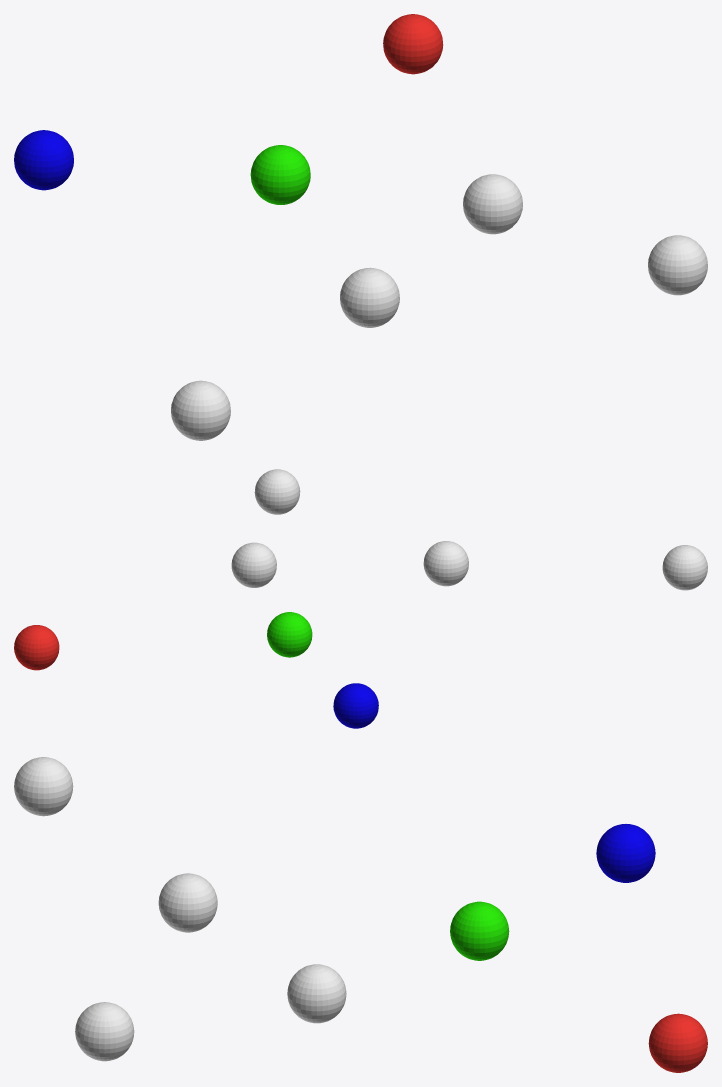
The model's file is streamboll.glb.
The picture shows the model from 3 angles, top to bottom: view 1: azimuth 30°, elevation 25°; view 2: azimuth 150°, elevation 25°; view 3: azimuth 270°, elevation 25°; orthographic projection. The views are drawn at different scales.
Parts seen in each view (by area): view 1: streamboll-1-4, streamboll-2-3, streamboll-1-3, streamboll-1-1, streamboll-1-2, streamboll-2-1, streamboll-2-2; view 2: streamboll-1-1, streamboll-2-1, streamboll-2-2, streamboll-1-2, streamboll-1-3, streamboll-2-3, streamboll-1-4; view 3: streamboll-2-2, streamboll-1-3, streamboll-1-4, streamboll-1-1, streamboll-2-1, streamboll-2-3, streamboll-1-2.
Part boxes in pixels (x1=…): streamboll-1-4: x1=648, y1=235, x2=707, y2=295; streamboll-2-3: x1=383, y1=14, x2=443, y2=74; streamboll-1-3: x1=463, y1=174, x2=522, y2=234; streamboll-1-1: x1=14, y1=130, x2=73, y2=190; streamboll-1-2: x1=250, y1=145, x2=310, y2=204; streamboll-2-1: x1=171, y1=380, x2=230, y2=440; streamboll-2-2: x1=340, y1=267, x2=399, y2=327; streamboll-1-1: x1=333, y1=683, x2=378, y2=728; streamboll-2-1: x1=662, y1=545, x2=707, y2=590; streamboll-2-2: x1=423, y1=541, x2=468, y2=586; streamboll-1-2: x1=267, y1=612, x2=312, y2=657; streamboll-1-3: x1=231, y1=542, x2=276, y2=587; streamboll-2-3: x1=14, y1=625, x2=59, y2=670; streamboll-1-4: x1=254, y1=469, x2=300, y2=514; streamboll-2-2: x1=158, y1=873, x2=217, y2=932; streamboll-1-3: x1=287, y1=964, x2=346, y2=1023; streamboll-1-4: x1=75, y1=1002, x2=134, y2=1061; streamboll-1-1: x1=596, y1=824, x2=655, y2=882; streamboll-2-1: x1=14, y1=757, x2=73, y2=816; streamboll-2-3: x1=648, y1=1013, x2=707, y2=1072; streamboll-1-2: x1=450, y1=901, x2=509, y2=960.
Bounding box in the file's own units: 130 × 11.8 × 135.
